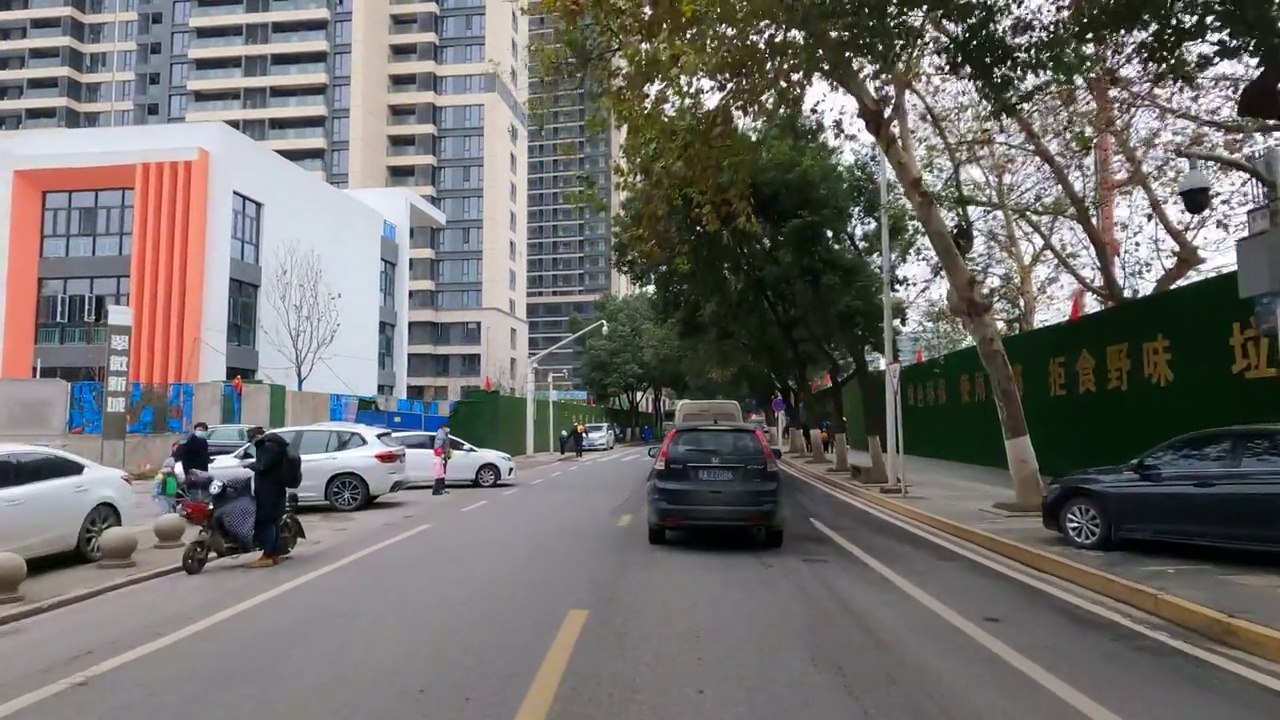lane: (806, 519, 1122, 720), (937, 543, 1280, 689), (1, 582, 300, 720), (514, 610, 586, 720)
